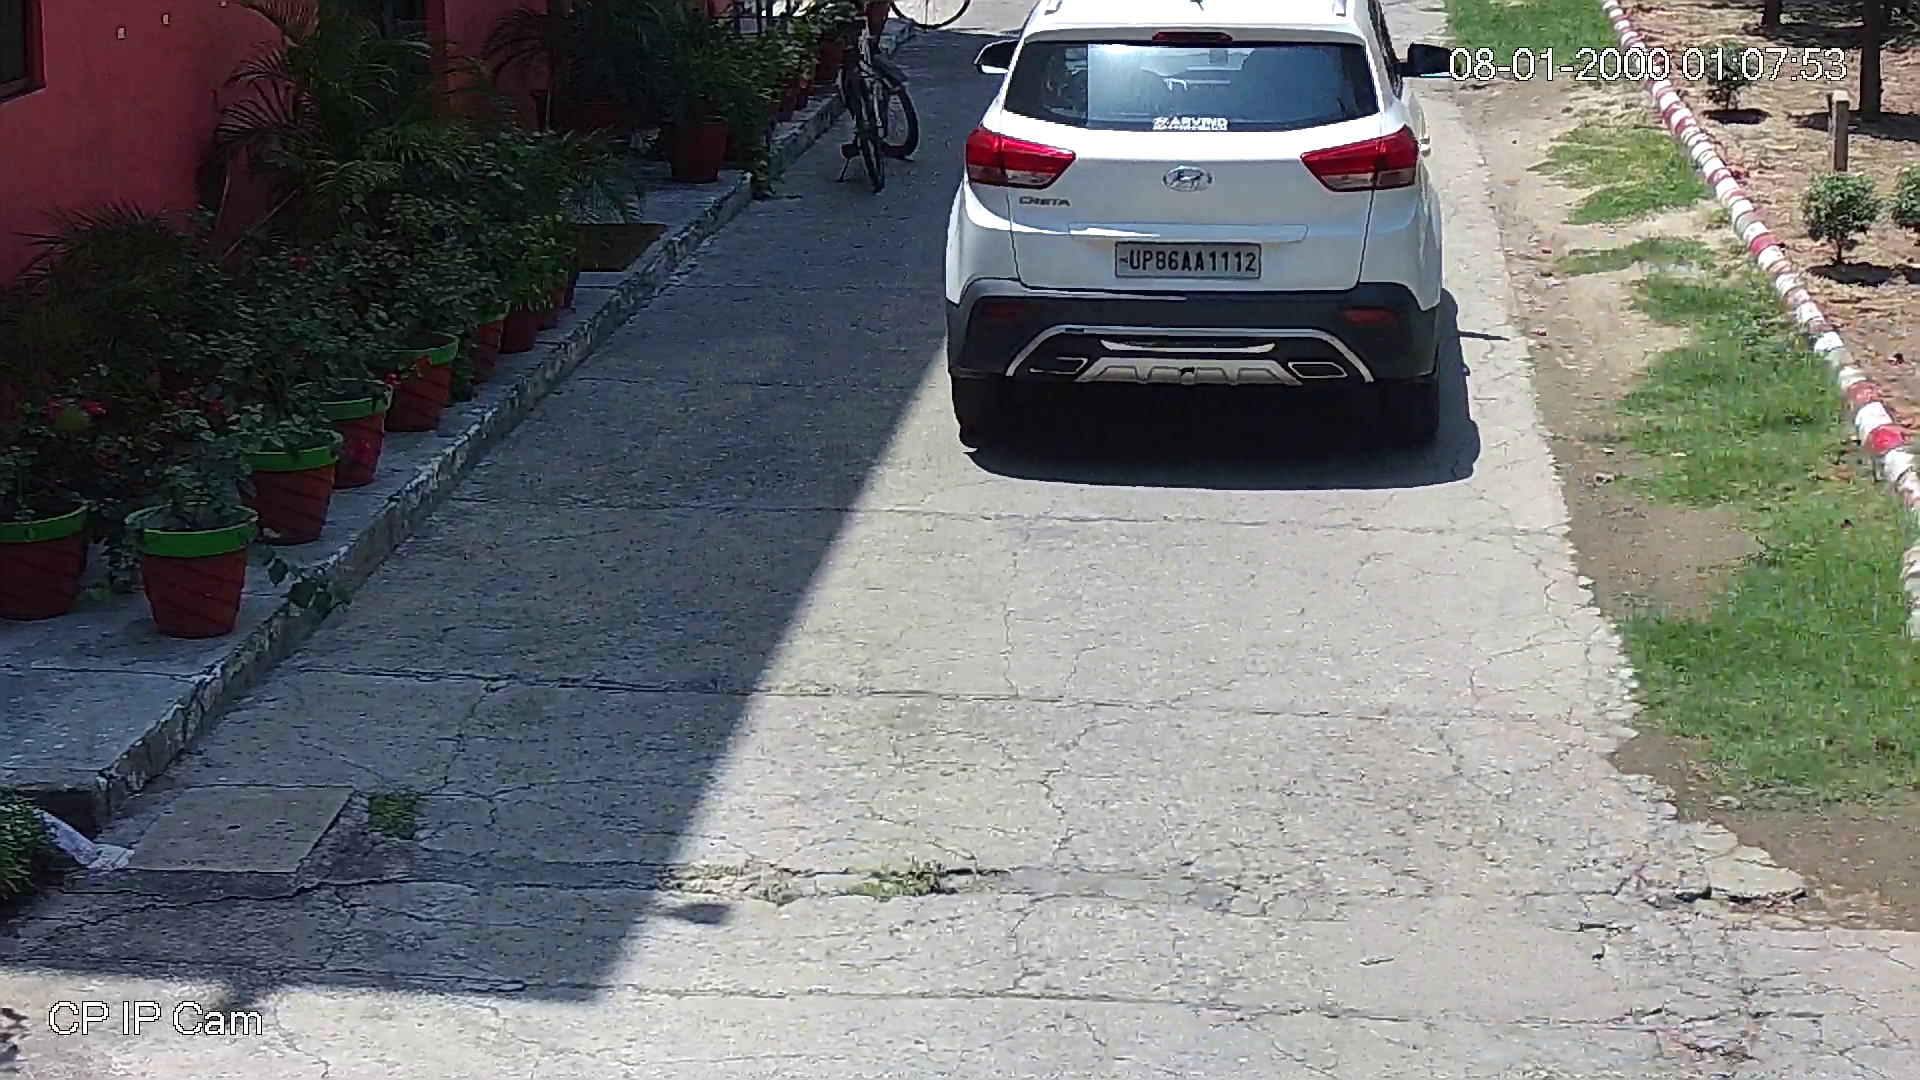plate: (1116, 244, 1261, 283)
